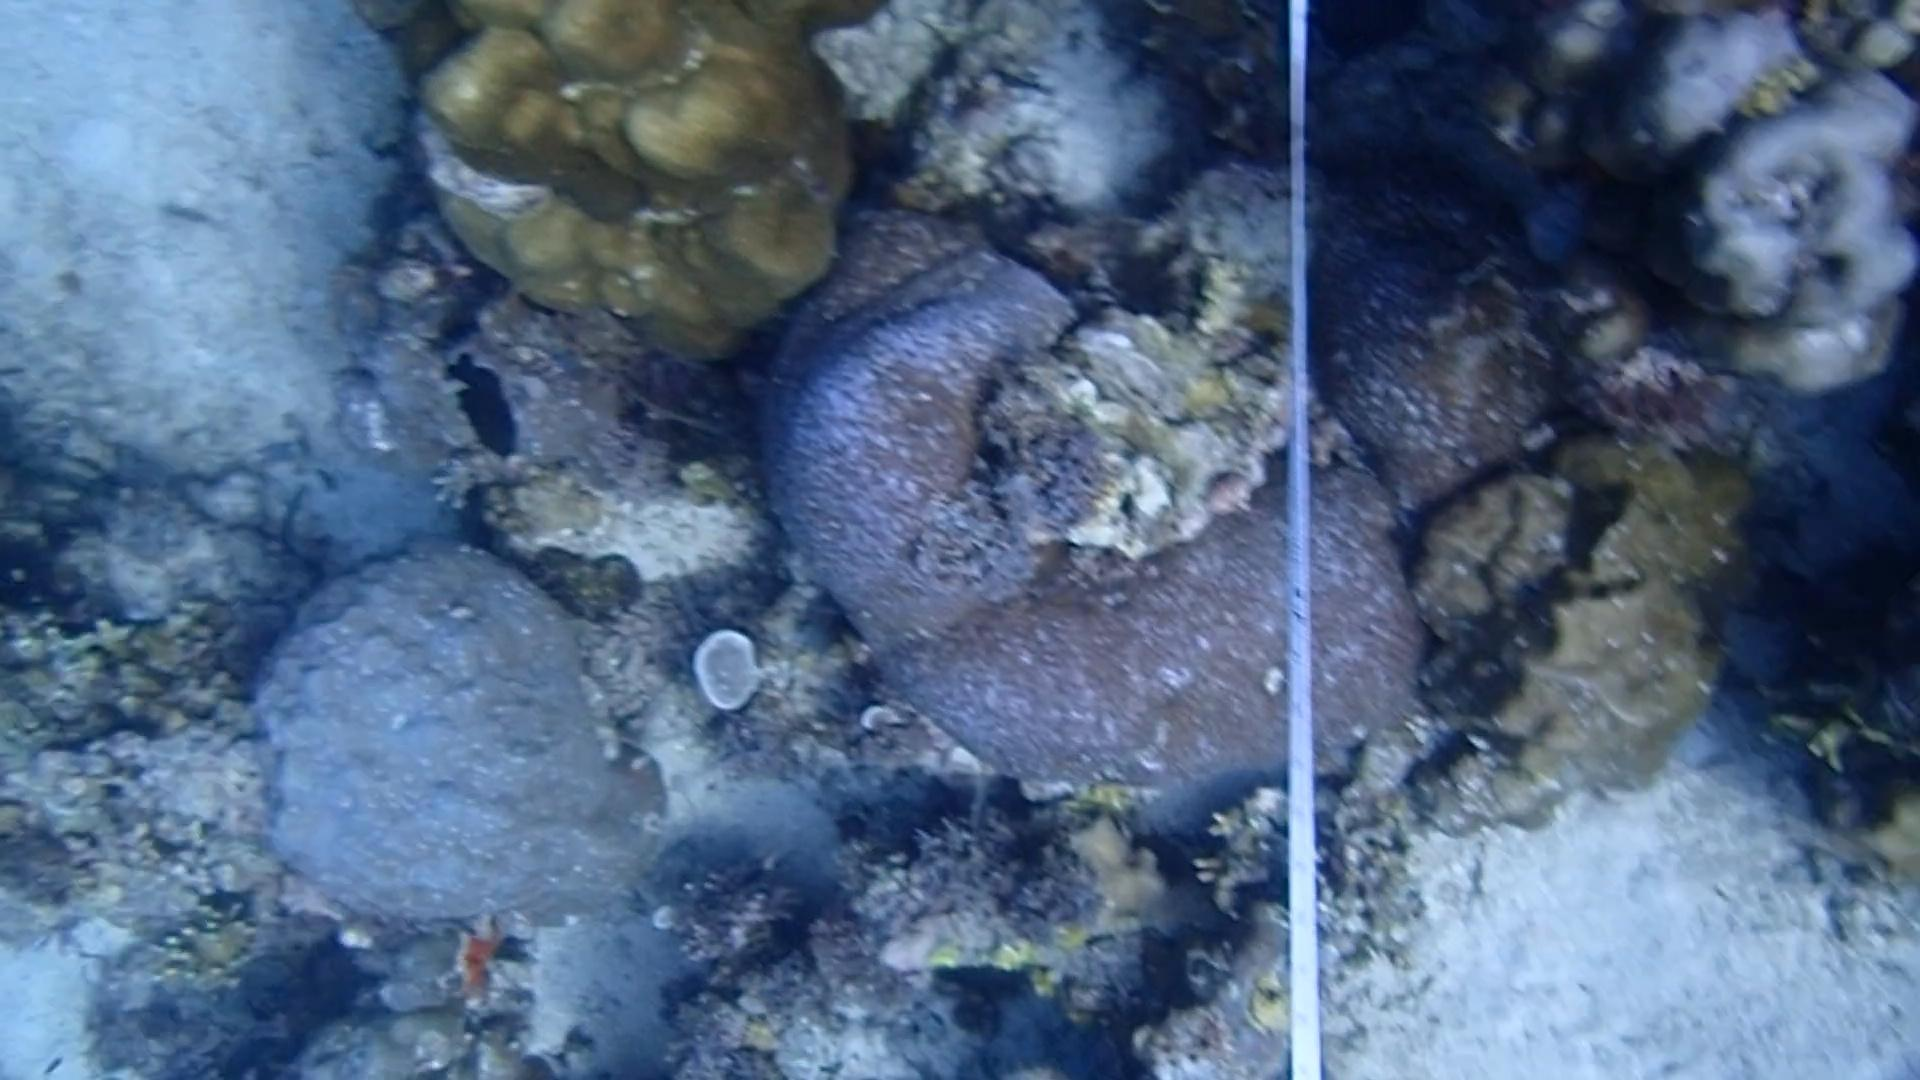Dark Fish: (446, 344, 518, 463)
